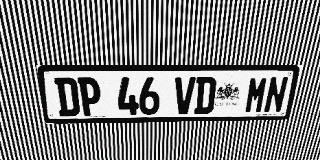4: (117, 77, 139, 115)
6: (139, 77, 160, 115)
D: (54, 77, 80, 116), (194, 77, 217, 114)
M: (244, 76, 269, 113)
N: (263, 76, 289, 113)
P: (77, 77, 102, 116)
V: (174, 77, 196, 114)
